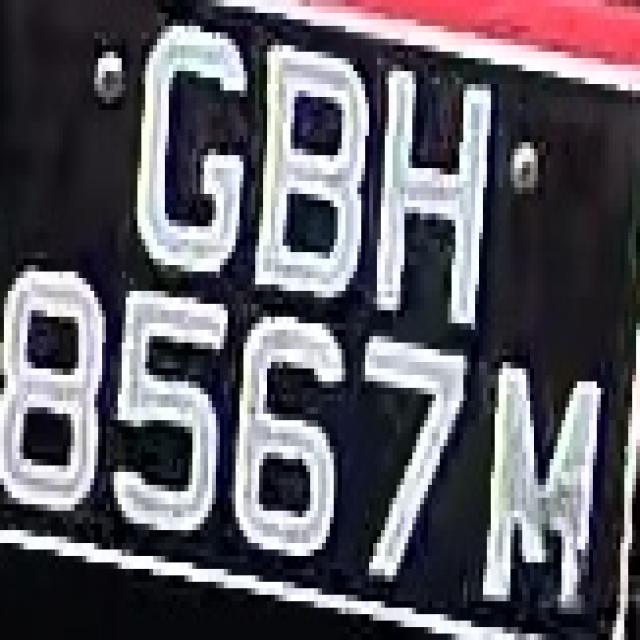5: (110, 246, 232, 536)
6: (236, 298, 346, 576)
7: (349, 323, 483, 595)
8: (4, 220, 110, 556)
B: (251, 26, 369, 323)
G: (122, 19, 255, 291)
H: (369, 51, 491, 342)
M: (475, 342, 601, 634)
